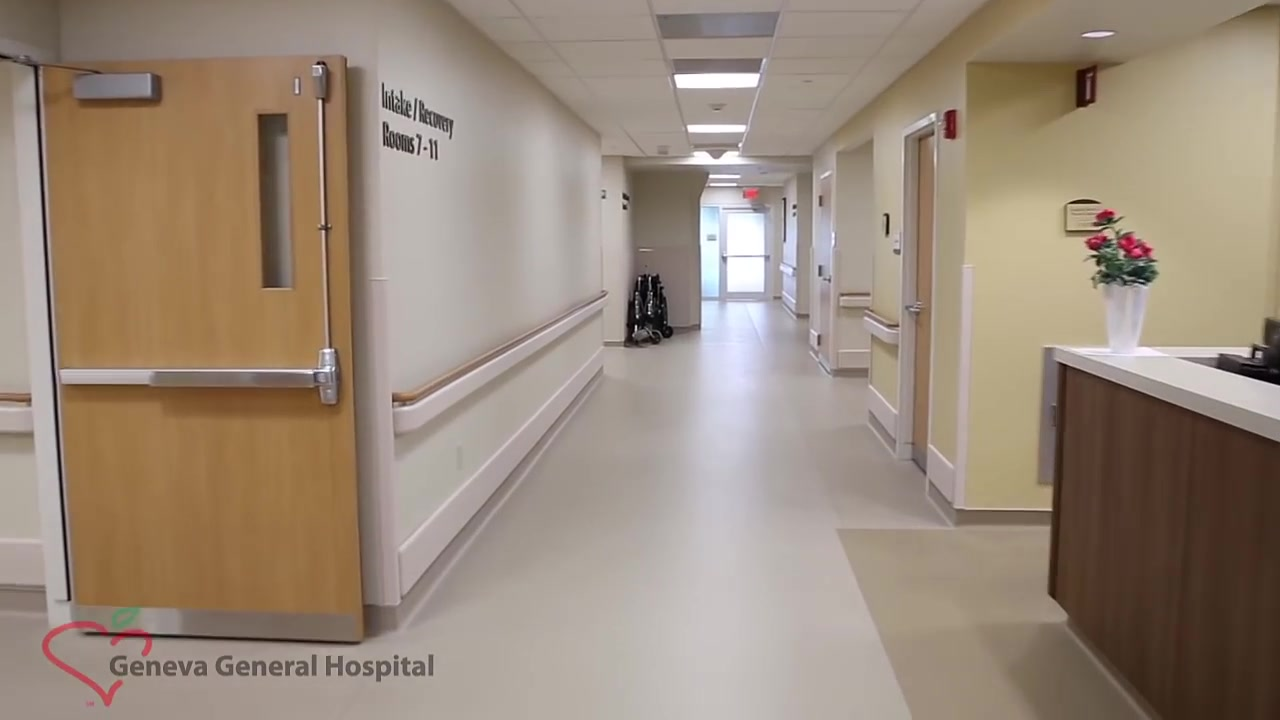countertop: (1055, 347, 1278, 442)
door_handle: (904, 304, 921, 315)
hallway_assist_bar: (393, 289, 610, 436), (1, 390, 32, 434), (863, 310, 900, 344)
push_latch: (60, 336, 345, 411), (721, 249, 770, 264)
wheel_chair: (626, 272, 668, 354)
